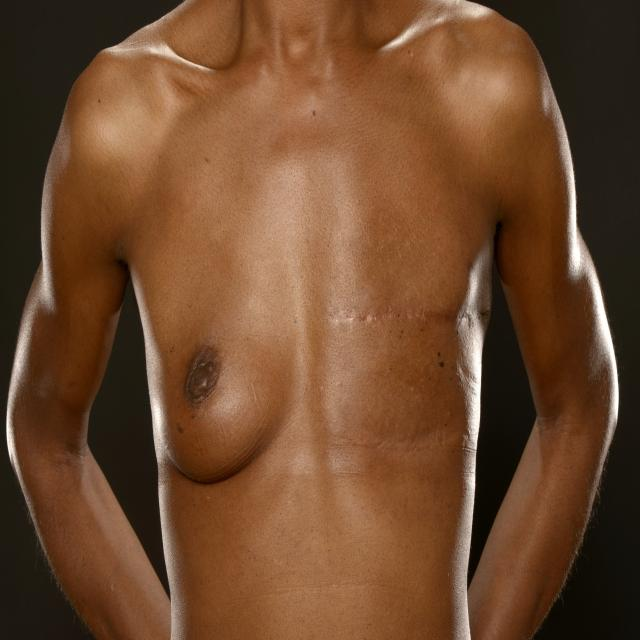wound: (326, 292, 494, 354)
